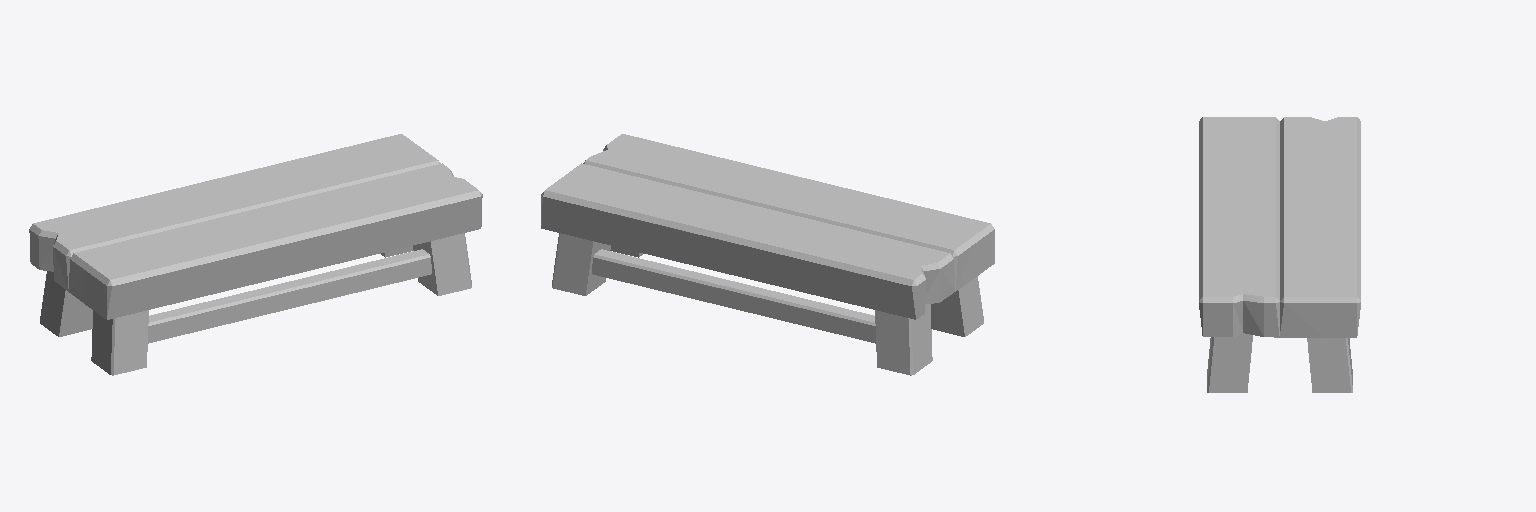
The model's file is bench.obj.
The picture shows the model from 3 angles: view 1: azimuth 30°, elevation 25°; view 2: azimuth 150°, elevation 25°; view 3: azimuth 270°, elevation 25°; orthographic projection.
Parts seen in each view (by area): view 1: bench_Cube.117; view 2: bench_Cube.117; view 3: bench_Cube.117.
Boxes of the visible parts, x1,y1,x2,y2 form: bench_Cube.117: [29, 134, 482, 375]; bench_Cube.117: [541, 134, 994, 375]; bench_Cube.117: [1199, 117, 1360, 392].
Size of the model in its own units: 2 by 0.5 by 0.75.